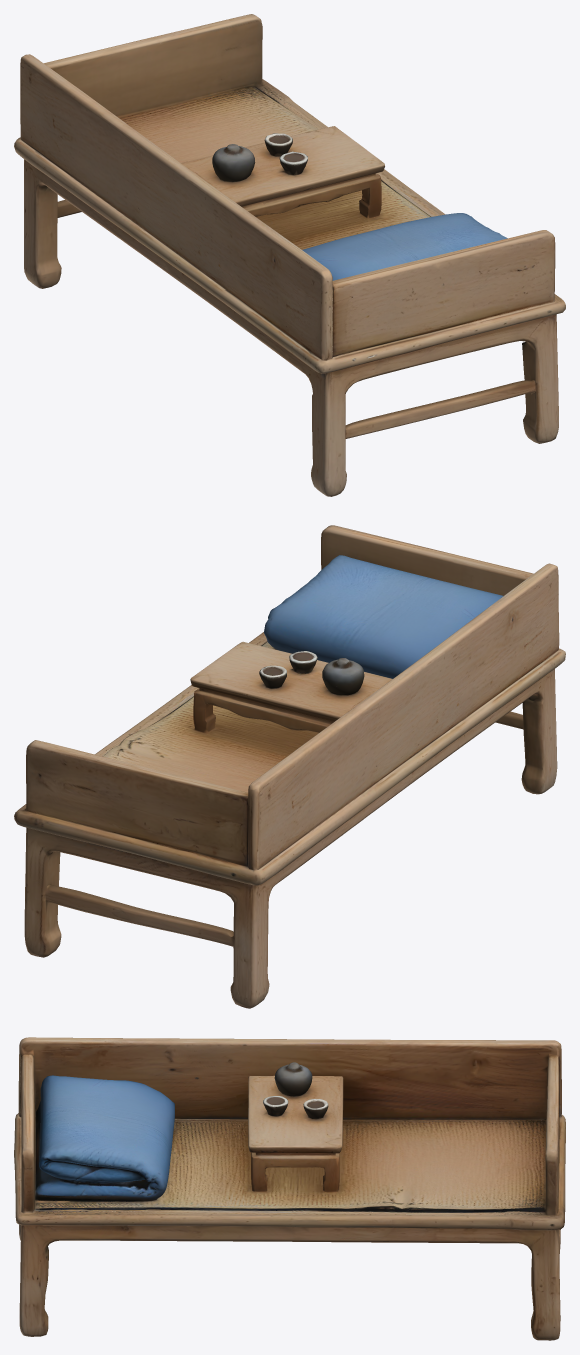
File: f_muta.glb
The picture shows the model from 3 angles, top to bottom: view 1: azimuth 30°, elevation 25°; view 2: azimuth 150°, elevation 25°; view 3: azimuth 270°, elevation 25°; orthographic projection. The views are drawn at different scales.
Visible parts, largest first — view 1: tripo_node_727345d5-8f26-4277-b340-bf216b4fa542; view 2: tripo_node_727345d5-8f26-4277-b340-bf216b4fa542; view 3: tripo_node_727345d5-8f26-4277-b340-bf216b4fa542.
Boxes of the visible parts, box(x1,y1,x2,y2) form: tripo_node_727345d5-8f26-4277-b340-bf216b4fa542: box(14, 14, 565, 496); tripo_node_727345d5-8f26-4277-b340-bf216b4fa542: box(14, 525, 565, 1008); tripo_node_727345d5-8f26-4277-b340-bf216b4fa542: box(14, 1037, 565, 1340).
Size of the model in its own units: 0.4691 by 0.4108 by 0.9998.
Materials: 1 (1 with a texture image).
